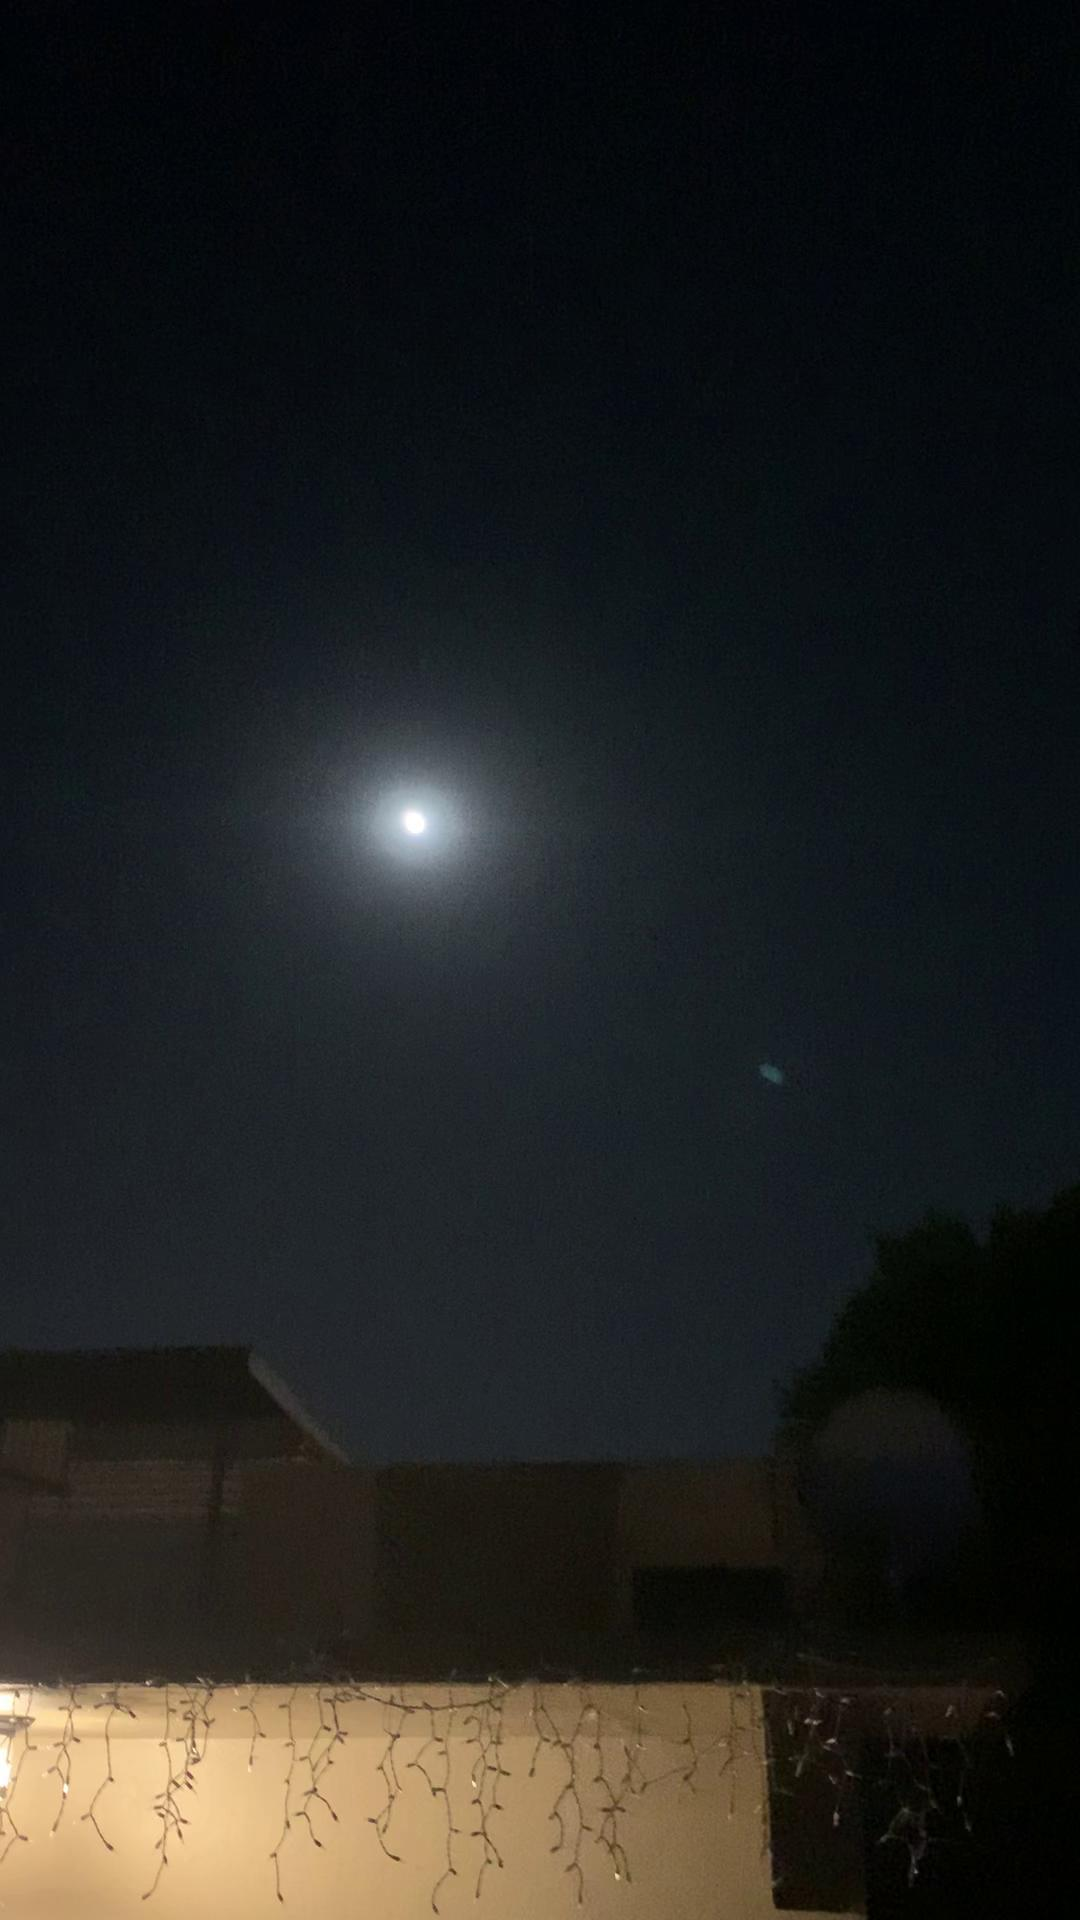moon: (372, 786, 459, 865)
